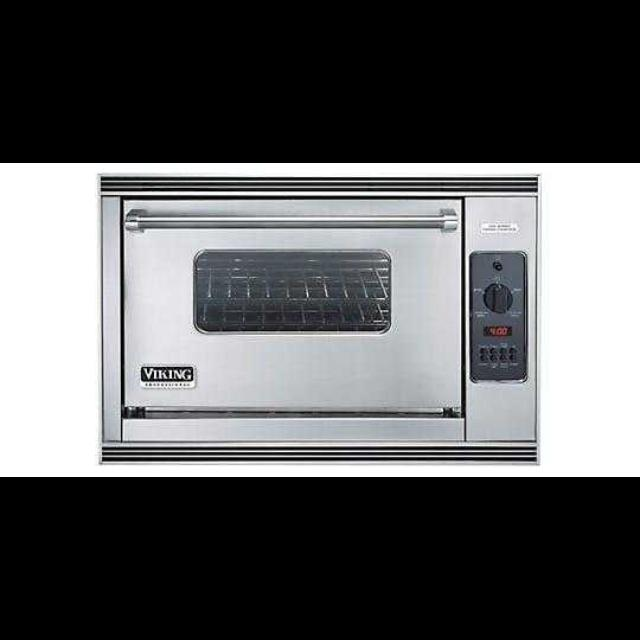Oven: (93, 168, 543, 468)
